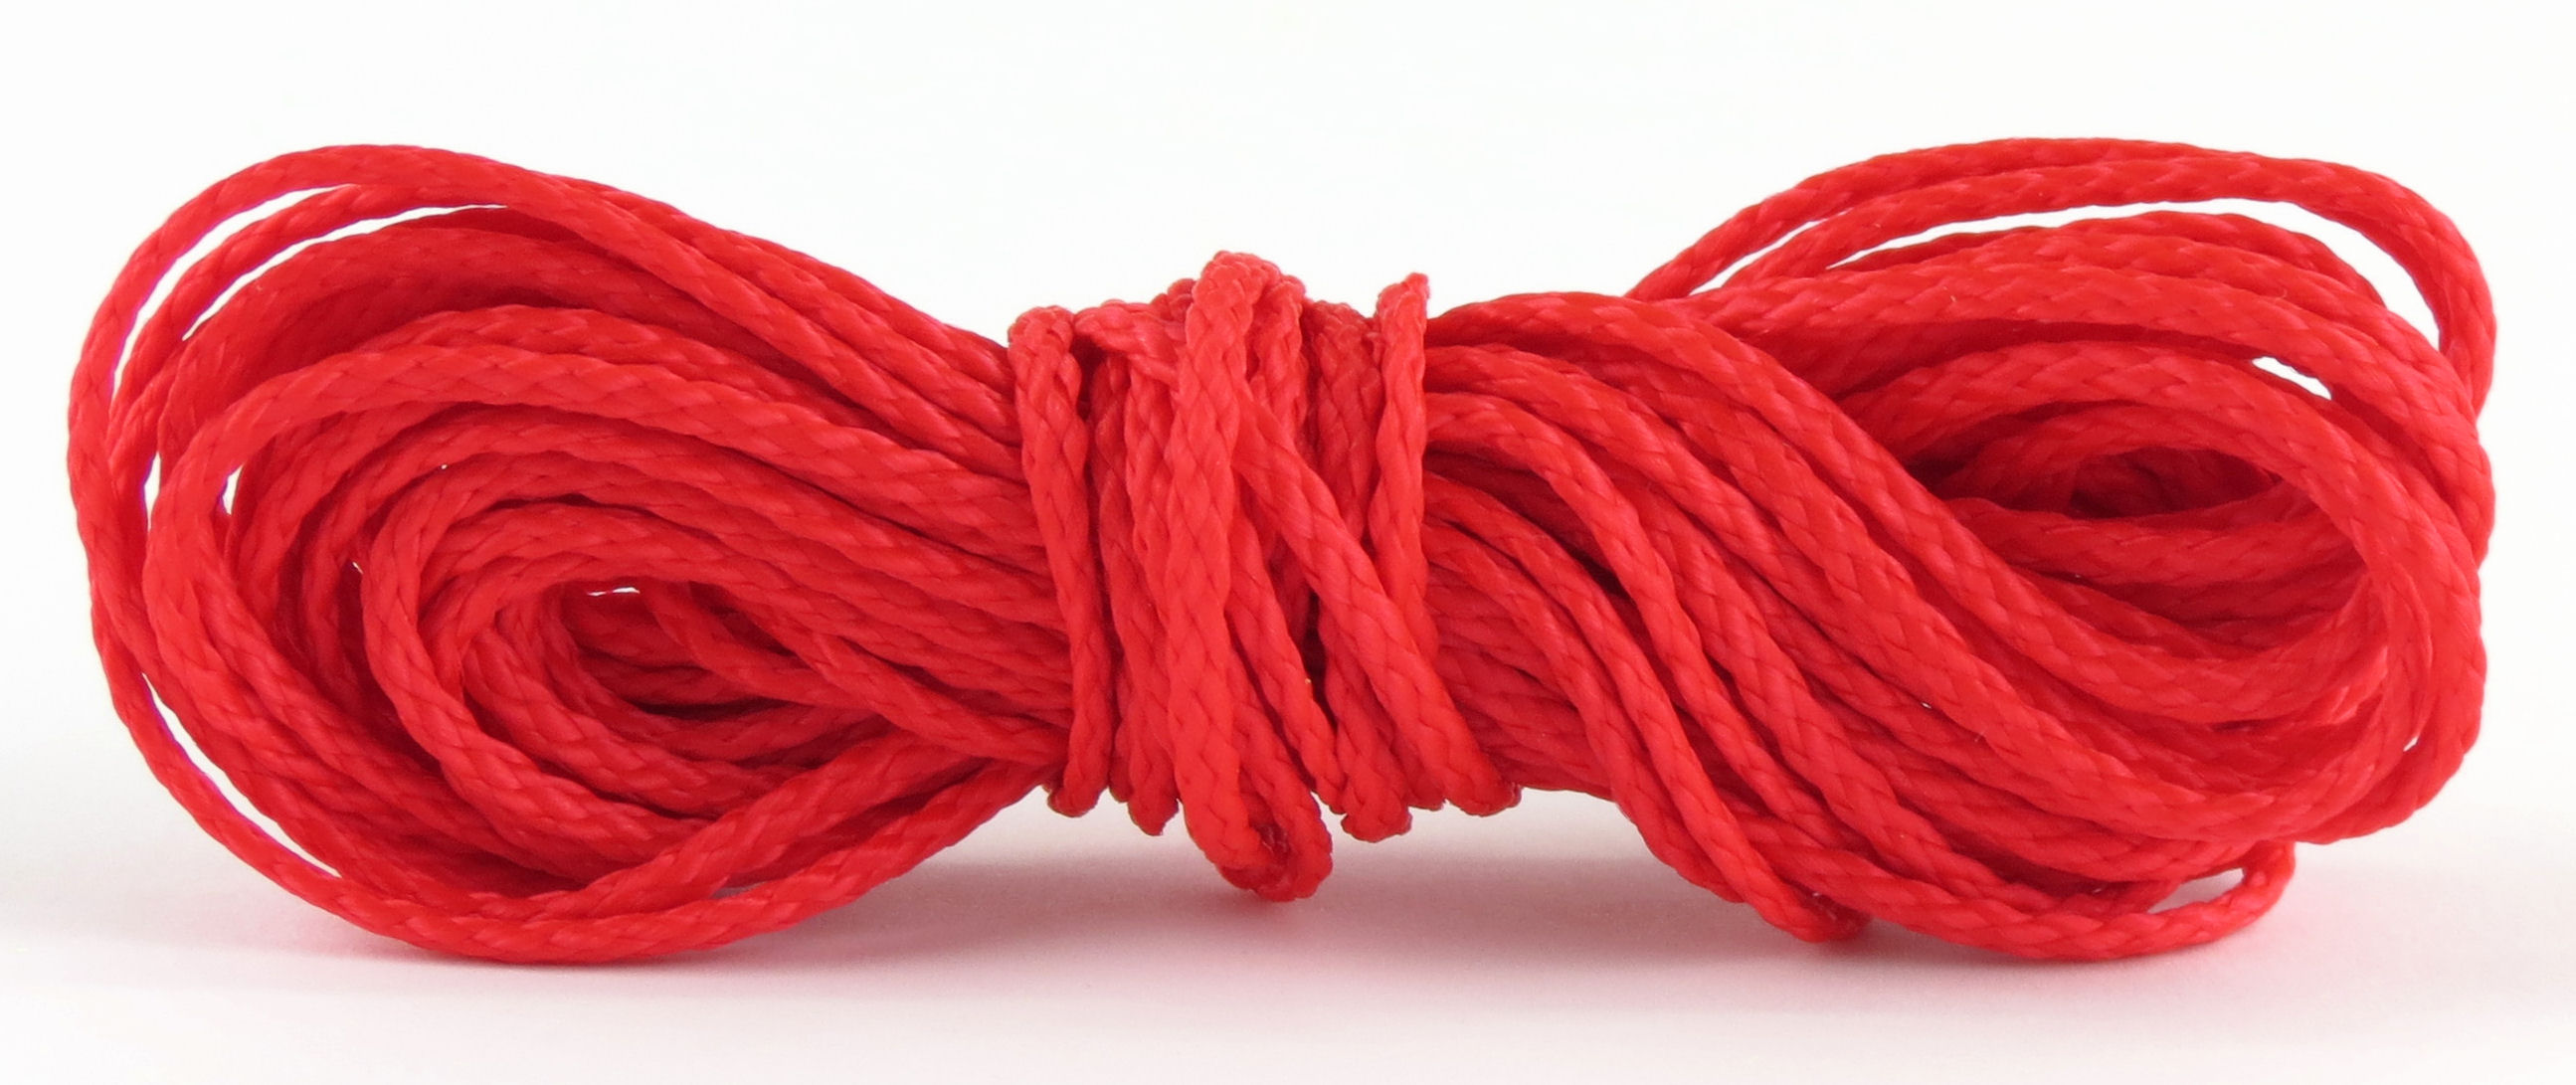Nonrec_Tangler: (20, 110, 2564, 957)
